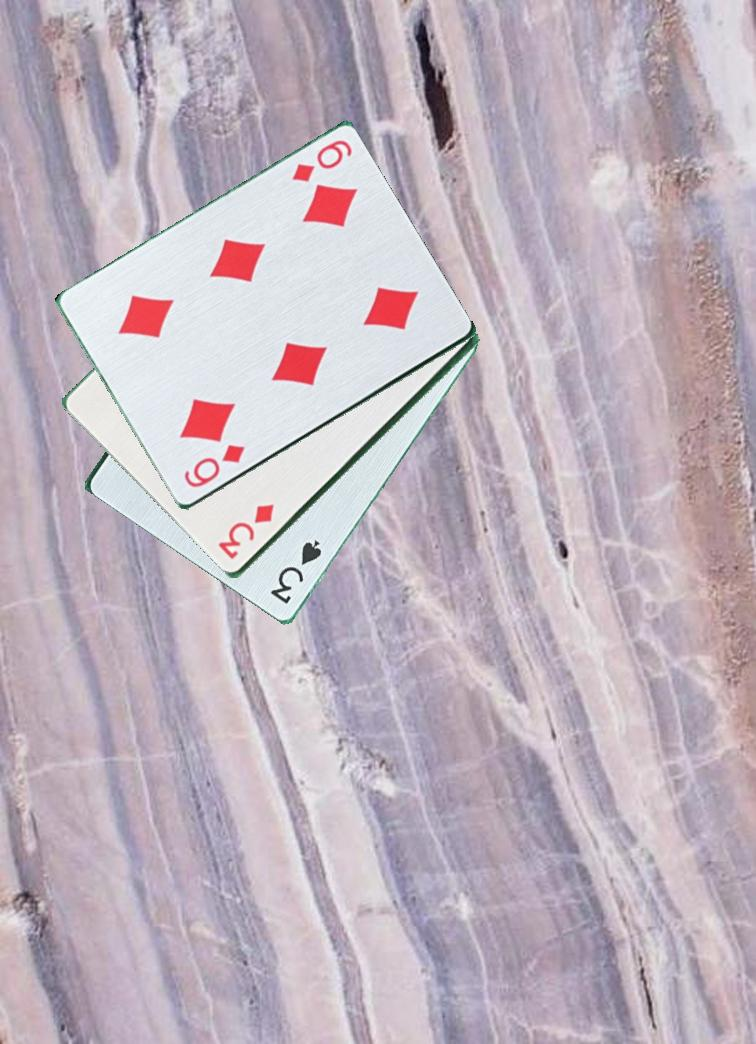3d: (216, 501, 278, 563)
3s: (267, 536, 325, 608)
6d: (180, 441, 248, 492), (288, 136, 355, 186)
